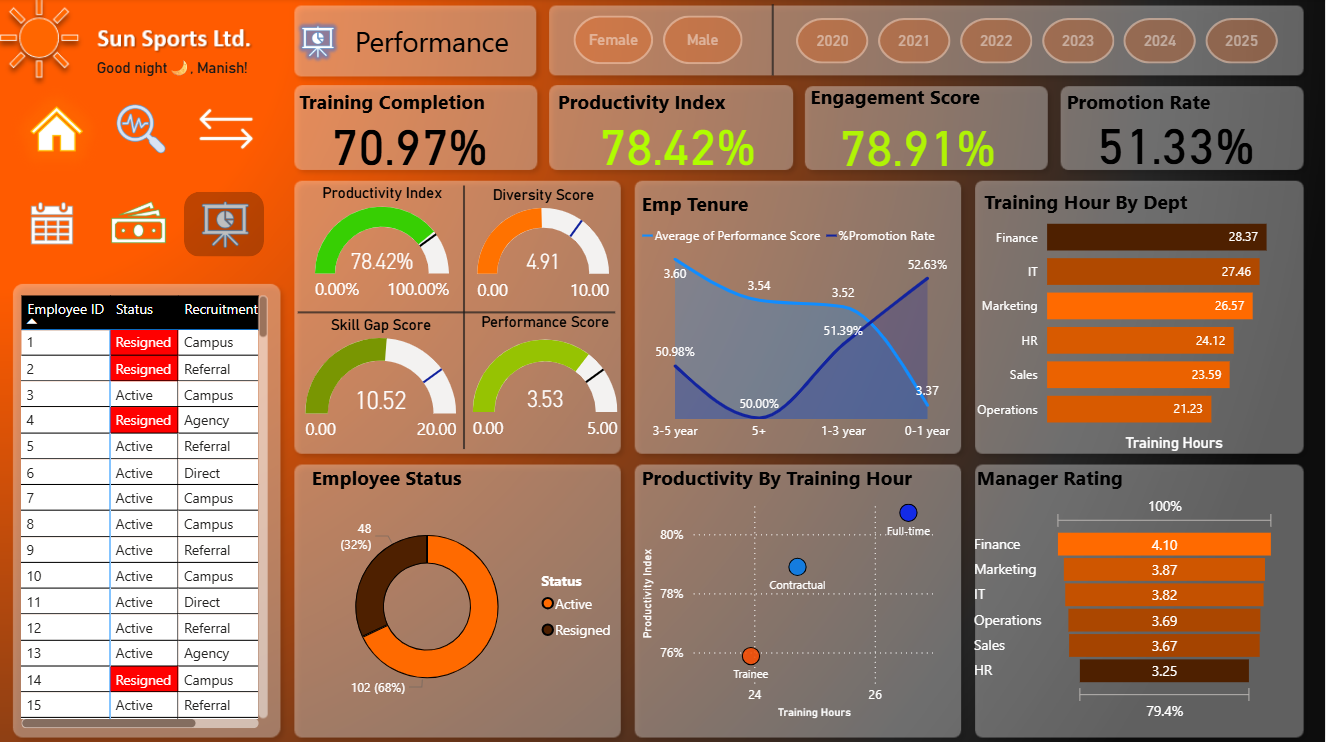

What the dashboard file says about the page in this screenshot:
{"tool":"powerbi","page":{"name":"Performance","canvas":[1280,720],"ordinal":4},"visuals":[{"type":"advancedSlicerVisual","fields":{"Values":["Table1.Join Date.Variation.Date Hierarchy.Year"]},"box":[744.4,14.5,517.6,54.3],"z":0},{"type":"scatterChart","fields":{"X":["Avg(Table1.Training Hours)"],"Y":["Avg(Table1.Productivity Index)"],"Series":["Table1.Employment Type"]},"box":[615,476.1,300.2,224.8],"z":0,"group":"g1"},{"type":"card","fields":{"Values":["Performance Rating.Current Year Productivity"]},"box":[568.2,107.4,173.7,62.7],"z":1000},{"type":"textbox","box":[615,445.7,321.4,39.7],"z":1000,"group":"g1"},{"type":"textbox","box":[534.5,82,193,41],"z":2000},{"type":"funnel","fields":{"Category":["Table1.Department","Table1.Employment Type","Table1.Employee ID","Table1.Job Role"],"Y":["Avg(Table1.Manager Rating)"]},"box":[936.4,474.8,301.6,226.2],"z":3000},{"type":"pivotTable","fields":{"Rows":["Table1.Employee ID"],"Values":["Min(Table1.Status)","Min(Table1.Recruitment Source)"]},"box":[16.9,282.3,247.3,427.1],"z":4000},{"type":"textbox","box":[284.7,82,199.1,41],"z":5000},{"type":"card","fields":{"Values":["Avg(Table1.Training Completion (%))"]},"box":[308.8,107.4,174.9,62.7],"z":6000},{"type":"shape","box":[735.9,6,21.7,68.8],"z":7000},{"type":"gauge","title":"Diversity Score ","fields":{"Y":["Avg(Table1.Diversity Score)"],"MaxValue":["Avg(Table1.Target diversity)"]},"box":[451.5,181.1,148.4,122],"z":8000},{"type":"advancedSlicerVisual","fields":{"Values":["Table1.Gender"]},"box":[529.6,12.1,214.7,57.9],"z":9000},{"type":"card","fields":{"Values":["Avg(Table1.Engagement Score)"]},"box":[802.3,108.6,168.9,61.5],"z":10000},{"type":"textbox","box":[778.2,77.2,193,41],"z":11000},{"type":"card","fields":{"Values":["Performance Rating.%Promotion Rate"]},"box":[1046,97.7,178.6,80.8],"z":12000},{"type":"gauge","title":"Performance Score","fields":{"Y":["Avg(Table1.Performance Score)"],"MaxValue":["Avg(Table1.Target Performance Score)"]},"box":[452.4,304,149.6,136.3],"z":13000},{"type":"textbox","box":[1025.5,82,193,41],"z":14000},{"type":"clusteredBarChart","fields":{"Category":["Table1.Department"],"Y":["Avg(Table1.Training Hours)"]},"box":[933.8,191.8,328.2,250.9],"z":15000},{"type":"textbox","box":[945.8,178.6,283.5,39.8],"z":16000},{"type":"textbox","box":[296.9,445.4,171.6,40.2],"z":17000},{"type":"group","id":"g1","title":"Group 1","box":[615,445.7,321.4,255.3],"z":18000},{"type":"textbox","box":[938.6,445.2,283.5,39.8],"z":19000},{"type":"donutChart","fields":{"Category":["Table1.Status"],"Y":["Performance Rating.Total Employees"]},"box":[298,476.5,306.4,222],"z":20000},{"type":"shape","box":[434.6,180.9,29,254.6],"z":21000,"group":"g2"},{"type":"lineChart","fields":{"Category":["Table1.Tenure Year"],"Y2":["Performance Rating.%Promotion Rate"],"Y":["Avg(Table1.Performance Score)"]},"box":[615.3,209.9,318.5,225.6],"z":21000},{"type":"textbox","box":[615,181.1,284.2,40.2],"z":22000},{"type":"shape","box":[288.6,283.4,306.4,39.8],"z":22000,"group":"g2"},{"type":"gauge","title":"Productivity Index","fields":{"Y":["Avg(Table1.Productivity Index)"]},"box":[292,179.8,155.6,123.1],"z":23000},{"type":"gauge","title":"Skill Gap Score","fields":{"Y":["Avg(Table1.Skill Gap Score)"]},"box":[290.8,306.4,155.6,131.5],"z":24000},{"type":"card","fields":{"Values":["Retention rate.WelcomeMessage"]},"box":[70,48.3,194.2,39.8],"z":25000},{"type":"textbox","box":[276.3,18.1,228,62.7],"z":26000},{"type":"image","box":[0,48.3,252.1,225.6],"z":27000},{"type":"actionButton","box":[13.3,187,77.2,62.7],"z":29000},{"type":"actionButton","box":[97.7,92.9,77.2,62.7],"z":30000},{"type":"actionButton","box":[96.5,188.2,77.2,62.7],"z":31000},{"type":"actionButton","box":[181,94.1,77.2,62.7],"z":32000},{"type":"actionButton","box":[178.6,187,77.2,62.7],"z":33000},{"type":"group","id":"g2","title":"Group 2","box":[288.6,180.9,306.4,254.6],"z":34000},{"type":"image","box":[264.2,12.1,86.9,60.3],"z":35000}]}

Visuals, with their boxes on the page's 1280x720 design canvas (x1, y1, x2, y2). These are canvas units, not pixel positions in the 1326x742 screenshot, which may show the page scaled, cropped or inside an application window:
advancedSlicerVisual - Table1.Join Date.Variation.Date Hierarchy.Year: <region>744, 14, 1262, 69</region>
scatterChart - Avg(Table1.Training Hours) x Avg(Table1.Productivity Index): <region>615, 476, 915, 701</region>
card - Performance Rating.Current Year Productivity: <region>568, 107, 742, 170</region>
textbox: <region>615, 446, 936, 485</region>
textbox: <region>534, 82, 728, 123</region>
funnel - Table1.Department x Table1.Employment Type: <region>936, 475, 1238, 701</region>
pivotTable - Table1.Employee ID x Min(Table1.Status): <region>17, 282, 264, 709</region>
textbox: <region>285, 82, 484, 123</region>
card - Avg(Table1.Training Completion (%)): <region>309, 107, 484, 170</region>
shape: <region>736, 6, 758, 75</region>
"Diversity Score " gauge: <region>452, 181, 600, 303</region>
advancedSlicerVisual - Table1.Gender: <region>530, 12, 744, 70</region>
card - Avg(Table1.Engagement Score): <region>802, 109, 971, 170</region>
textbox: <region>778, 77, 971, 118</region>
card - Performance Rating.%Promotion Rate: <region>1046, 98, 1225, 178</region>
"Performance Score" gauge: <region>452, 304, 602, 440</region>
textbox: <region>1026, 82, 1218, 123</region>
clusteredBarChart - Table1.Department x Avg(Table1.Training Hours): <region>934, 192, 1262, 443</region>
textbox: <region>946, 179, 1229, 218</region>
textbox: <region>297, 445, 468, 486</region>
"Group 1" group: <region>615, 446, 936, 701</region>
textbox: <region>939, 445, 1222, 485</region>
donutChart - Table1.Status x Performance Rating.Total Employees: <region>298, 476, 604, 698</region>
shape: <region>435, 181, 464, 436</region>
lineChart - Table1.Tenure Year x Performance Rating.%Promotion Rate: <region>615, 210, 934, 436</region>
textbox: <region>615, 181, 899, 221</region>
shape: <region>289, 283, 595, 323</region>
"Productivity Index" gauge: <region>292, 180, 448, 303</region>
"Skill Gap Score" gauge: <region>291, 306, 446, 438</region>
card - Retention rate.WelcomeMessage: <region>70, 48, 264, 88</region>
textbox: <region>276, 18, 504, 81</region>
image: <region>0, 48, 252, 274</region>
actionButton: <region>13, 187, 90, 250</region>
actionButton: <region>98, 93, 175, 156</region>
actionButton: <region>96, 188, 174, 251</region>
actionButton: <region>181, 94, 258, 157</region>
actionButton: <region>179, 187, 256, 250</region>
"Group 2" group: <region>289, 181, 595, 436</region>
image: <region>264, 12, 351, 72</region>
